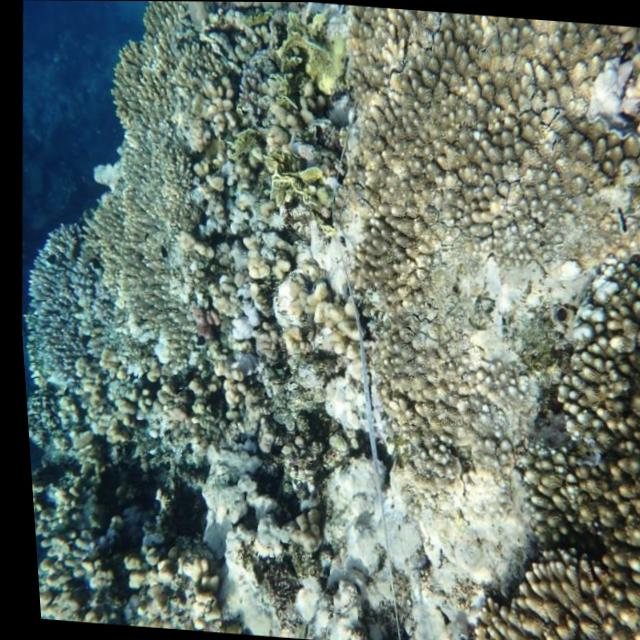Bleached Coral: (178, 423, 329, 640), (311, 457, 444, 640), (262, 222, 371, 417), (90, 141, 127, 200)
Healthy Coral: (344, 6, 640, 302), (442, 295, 640, 640)
